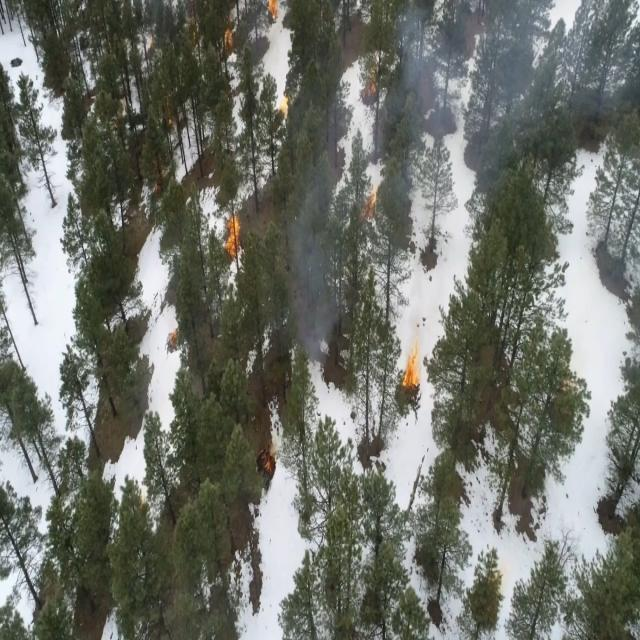Fire: (392, 320, 430, 403), (219, 200, 245, 266), (256, 426, 280, 490), (356, 56, 384, 105), (358, 169, 384, 219), (218, 18, 238, 61), (260, 0, 286, 27)
